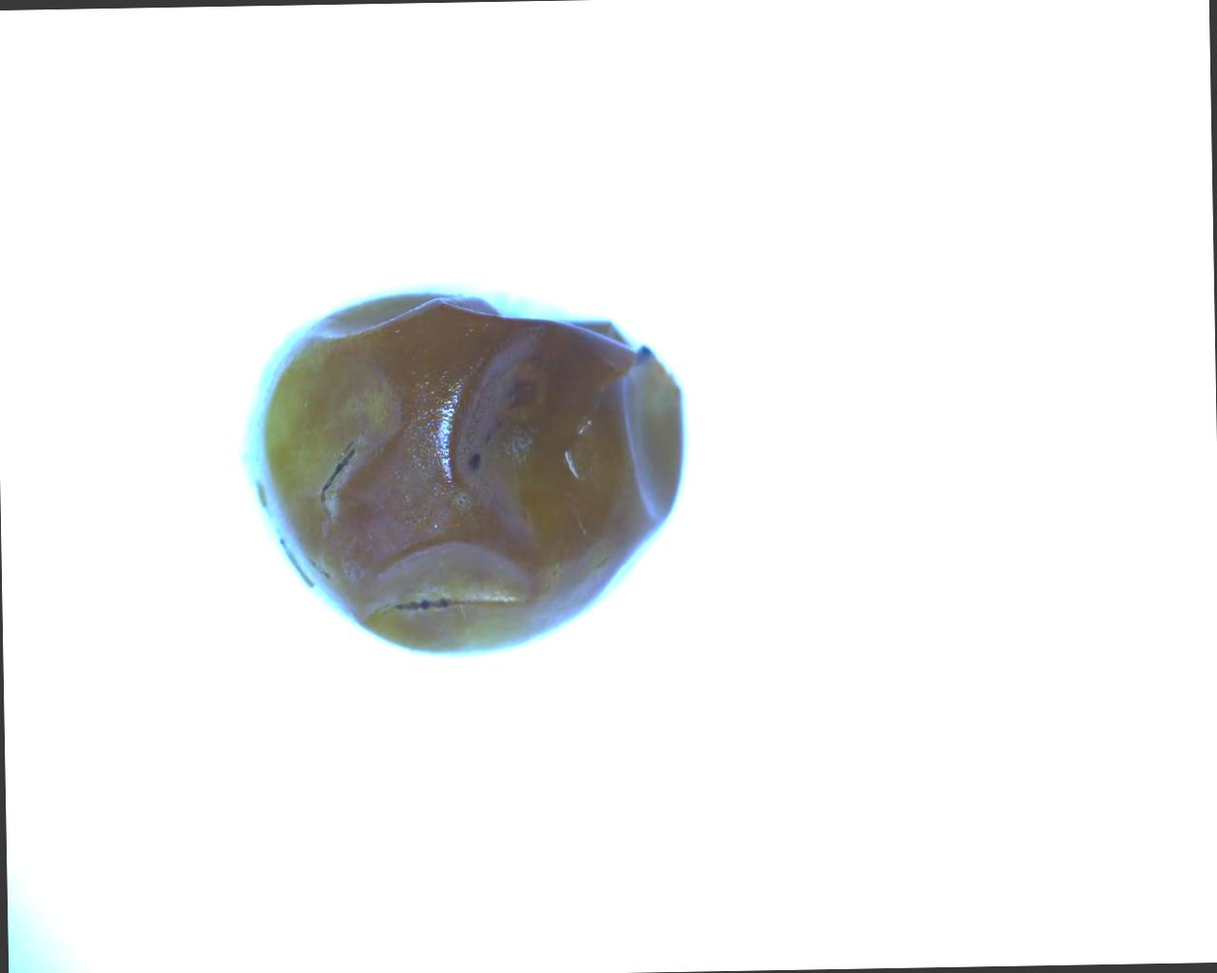Grape Rotten: (244, 284, 690, 659)
